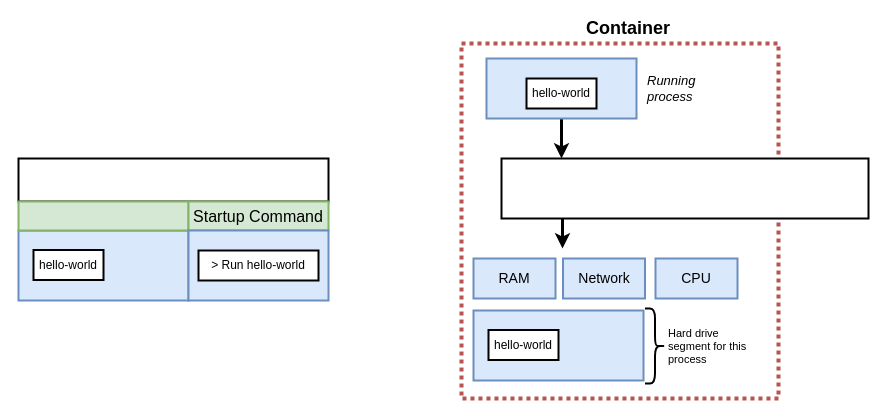
The diagram is 886 pixels wide and 417 high, and some of its shapes have lost their labels. Each missing label, with the centre of its shape:
FS Snapshot: [103,215]
Image: [173,179]
Kernel: [684,188]
